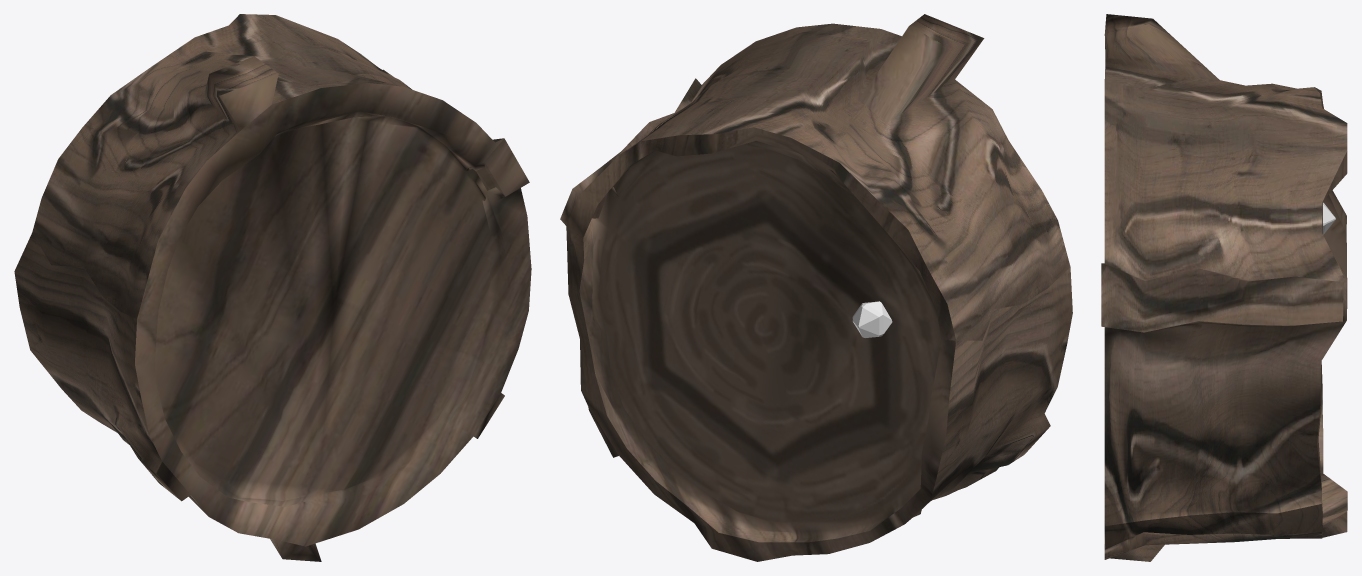
The model's file is oak.fbx.
3 renders of one model, left to right at view 1: azimuth 30°, elevation 25°; view 2: azimuth 150°, elevation 25°; view 3: azimuth 270°, elevation 25°, orthographic. The views are drawn at different scales.
Visible parts, largest first — view 1: stump; view 2: stump, stone; view 3: stump.
Part boxes in pixels (x1,y1,x2,y2): stump: [14, 14, 531, 561]; stump: [560, 14, 1072, 561]; stone: [852, 301, 892, 337]; stump: [1101, 14, 1347, 561].
Size of the model in its own units: 616 by 752 by 328.
